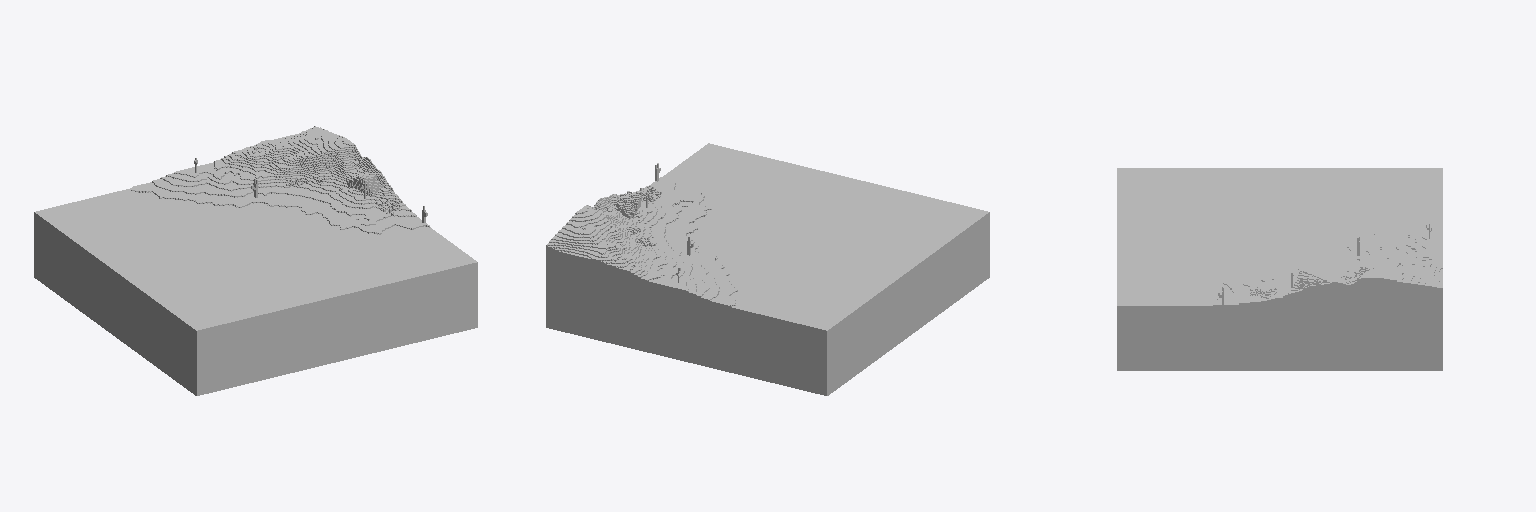
Rendered from Sunkeny City -  Voxel Desert-3-tile 4.obj.
3 renders of one model, left to right at view 1: azimuth 30°, elevation 25°; view 2: azimuth 150°, elevation 25°; view 3: azimuth 270°, elevation 25°, orthographic.
Visible parts, largest first — view 1: tile 4; view 2: tile 4; view 3: tile 4.
Boxes of the visible parts, box(x1,y1,x2,y2) form: tile 4: box(34, 126, 477, 395); tile 4: box(546, 143, 989, 395); tile 4: box(1117, 168, 1442, 370).
Bounding box in the file's own units: 25.6 × 8.1 × 25.6.